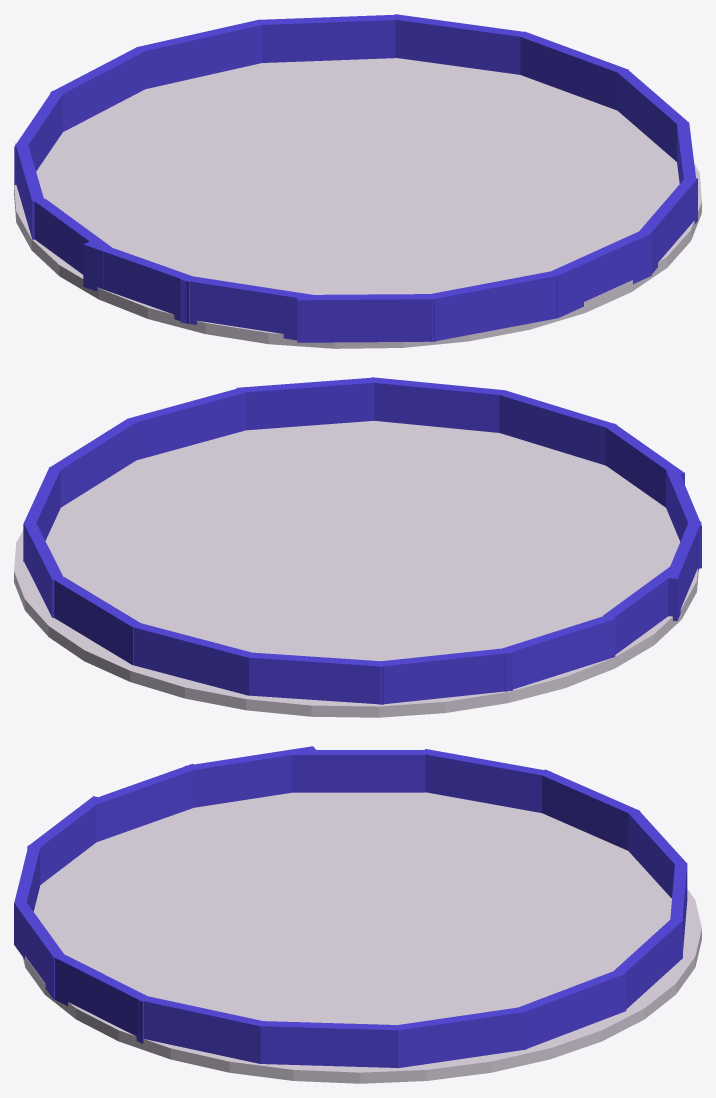
Rendered from stage_field_test.fbx.
3 renders of one model, top to bottom at view 1: azimuth 30°, elevation 25°; view 2: azimuth 150°, elevation 25°; view 3: azimuth 270°, elevation 25°, orthographic.
Visible parts, largest first — view 1: 円柱, Cube.013, Cube.012, Cube.005, Cube.006, Cube.004, Cube.014, Cube.015, Cube.011, Cube.007, Cube.003, Cube.008 (+5 smaller); view 2: 円柱, Cube.003, Cube.002, Cube.010, Cube.011, Cube.004, Cube.009, Cube.001, Cube.012, Cube.005, Cube.008, Cube.013 (+5 smaller); view 3: 円柱, Cube.008, Cube, Cube.007, Cube.009, Cube.001, Cube.006, Cube.014, Cube.015, Cube.010, Cube.002, Cube.013 (+5 smaller).
Part boxes in pixels (<box>): 円柱: <box>14,58,701,348</box>; Cube.013: <box>297,294,435,342</box>; Cube.012: <box>431,271,557,341</box>; Cube.005: <box>257,15,395,62</box>; Cube.006: <box>391,14,523,74</box>; Cube.004: <box>136,20,261,88</box>; Cube.014: <box>180,276,313,340</box>; Cube.015: <box>83,241,196,323</box>; Cube.011: <box>549,231,651,318</box>; Cube.007: <box>517,31,628,110</box>; Cube.003: <box>50,47,145,131</box>; Cube.008: <box>617,70,688,161</box>; 円柱: <box>14,420,698,717</box>; Cube.003: <box>249,652,385,704</box>; Cube.002: <box>377,648,512,704</box>; Cube.010: <box>236,377,374,430</box>; Cube.011: <box>372,377,505,432</box>; Cube.004: <box>133,623,255,695</box>; Cube.009: <box>127,387,248,460</box>; Cube.001: <box>499,615,615,691</box>; Cube.012: <box>499,390,616,465</box>; Cube.005: <box>54,577,142,665</box>; Cube.008: <box>51,419,136,507</box>; Cube.013: <box>604,423,684,507</box>; 円柱: <box>23,792,701,1083</box>; Cube.008: <box>260,1021,396,1067</box>; Cube: <box>288,750,425,792</box>; Cube.007: <box>394,1007,526,1068</box>; Cube.009: <box>138,996,265,1063</box>; Cube.001: <box>422,749,551,812</box>; Cube.006: <box>519,969,626,1048</box>; Cube.014: <box>96,763,199,841</box>; Cube.015: <box>185,746,315,807</box>; Cube.010: <box>55,954,151,1043</box>; Cube.002: <box>542,769,640,850</box>; Cube.013: <box>27,796,103,884</box>.
Bounding box in the file's own units: 1000 × 79 × 1007.
